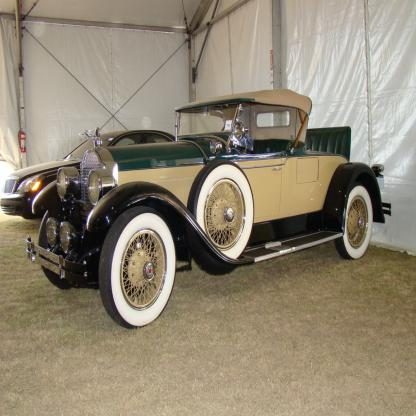Car: (26, 89, 392, 329), (0, 130, 188, 220)
